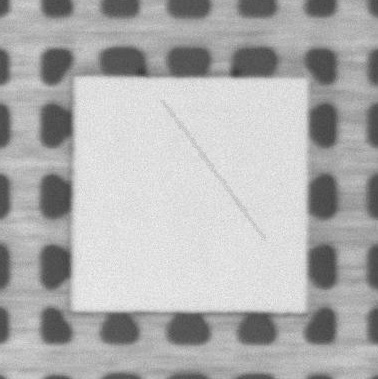DIE_CRACK: (163, 101, 264, 240)
